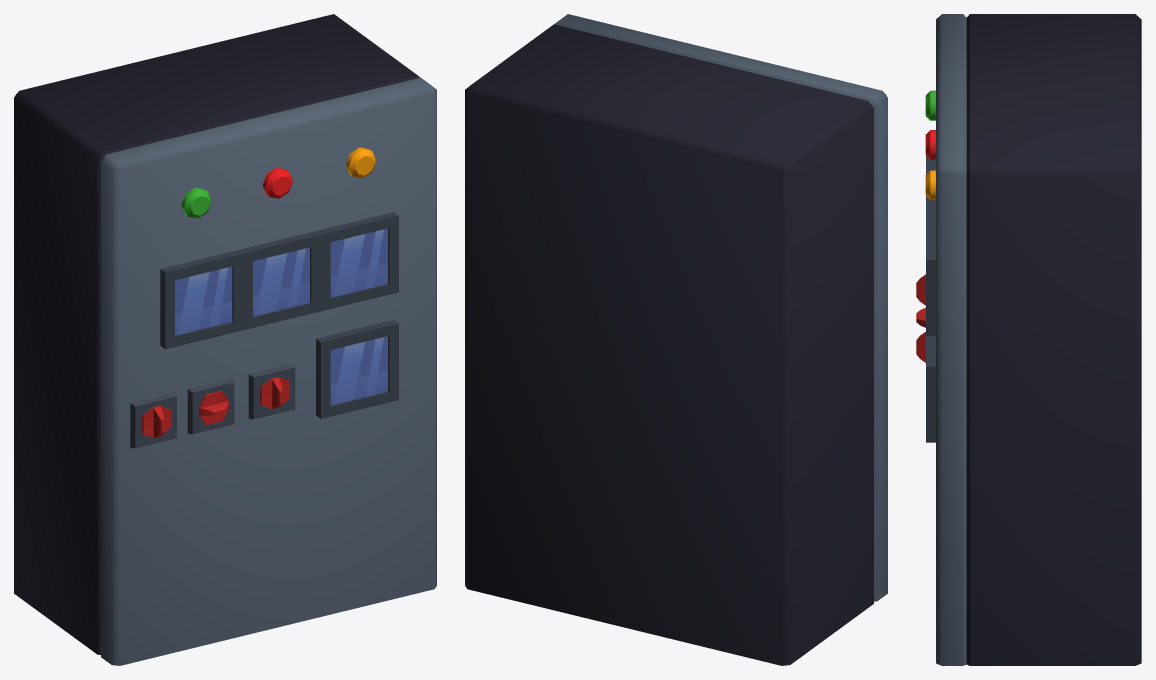
File: ElectricBox_3_D_1.glb
The picture shows the model from 3 angles, left to right: view 1: azimuth 30°, elevation 25°; view 2: azimuth 150°, elevation 25°; view 3: azimuth 270°, elevation 25°; orthographic projection.
Visible parts, largest first — view 1: ElectricBox_3_D_1; view 2: ElectricBox_3_D_1; view 3: ElectricBox_3_D_1.
Boxes of the visible parts, bbox=[...] form: ElectricBox_3_D_1: bbox=[14, 14, 436, 665]; ElectricBox_3_D_1: bbox=[465, 14, 887, 665]; ElectricBox_3_D_1: bbox=[916, 14, 1141, 665].
Size of the model in its own units: 1.02 by 1.5 by 0.616.
Materials: 4 (4 with a texture image).
